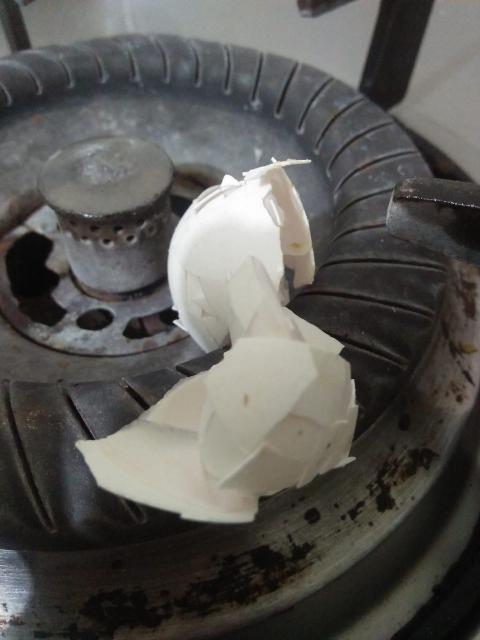Roto: (74, 156, 360, 524)
